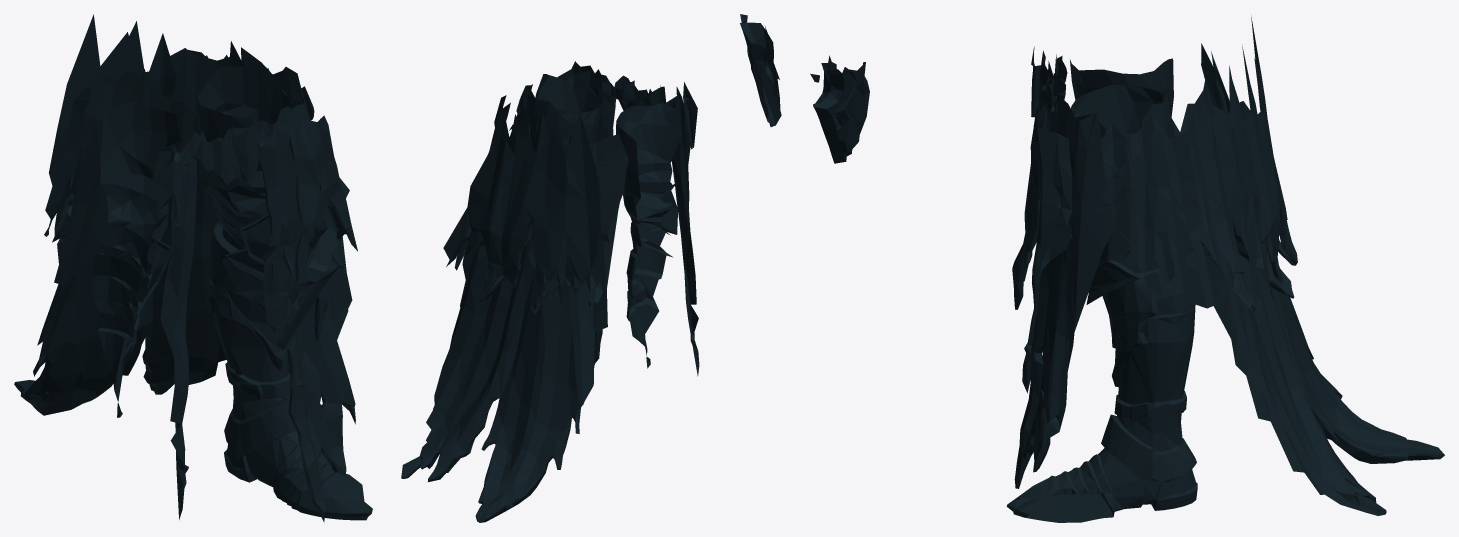
Rendered from reaper_leg_l.obj.
The picture shows the model from 3 angles, left to right: view 1: azimuth 30°, elevation 25°; view 2: azimuth 150°, elevation 25°; view 3: azimuth 270°, elevation 25°; orthographic projection. The views are drawn at different scales.
Parts seen in each view (by area): view 1: Reaper_LeftLeg; view 2: Reaper_LeftLeg; view 3: Reaper_LeftLeg.
Boxes of the visible parts, bbox=[...] form: Reaper_LeftLeg: bbox=[14, 14, 372, 522]; Reaper_LeftLeg: bbox=[401, 14, 781, 522]; Reaper_LeftLeg: bbox=[810, 17, 1444, 522].
Size of the model in its own units: 0.4488 by 0.929 by 1.24.
